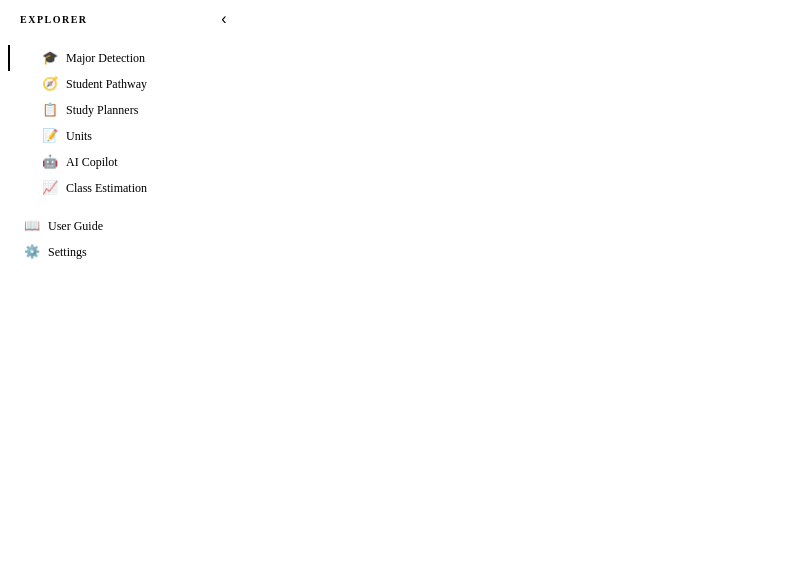
Test: opening Student Pathway from the sidebar, with no student loaded › shows the empty state with both the "Go to Major Detection" action and the import control
Click the text "Student Pathway" at (106, 84), box 66,76 -> 147,90
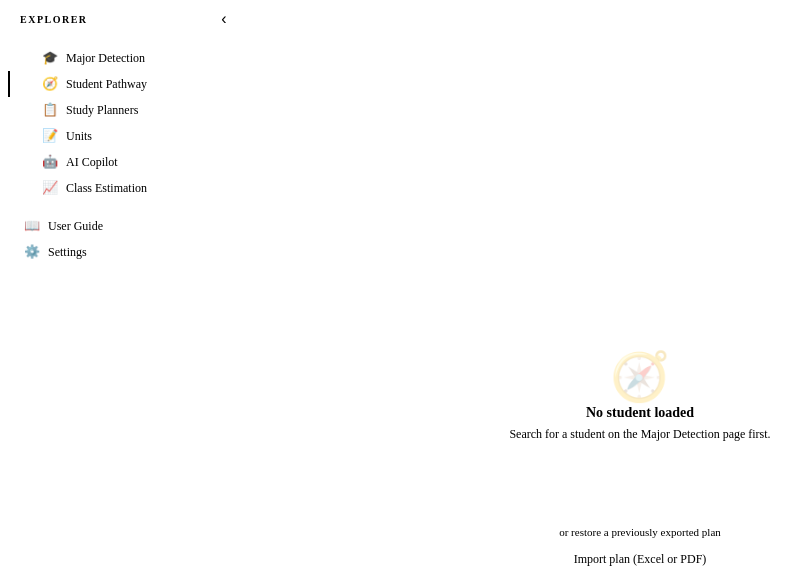
Now the text "No student loaded" is shown, box 586,405 -> 694,421
Now the file field "Import plan (Excel or PDF)" is shown, box 574,552 -> 706,566
